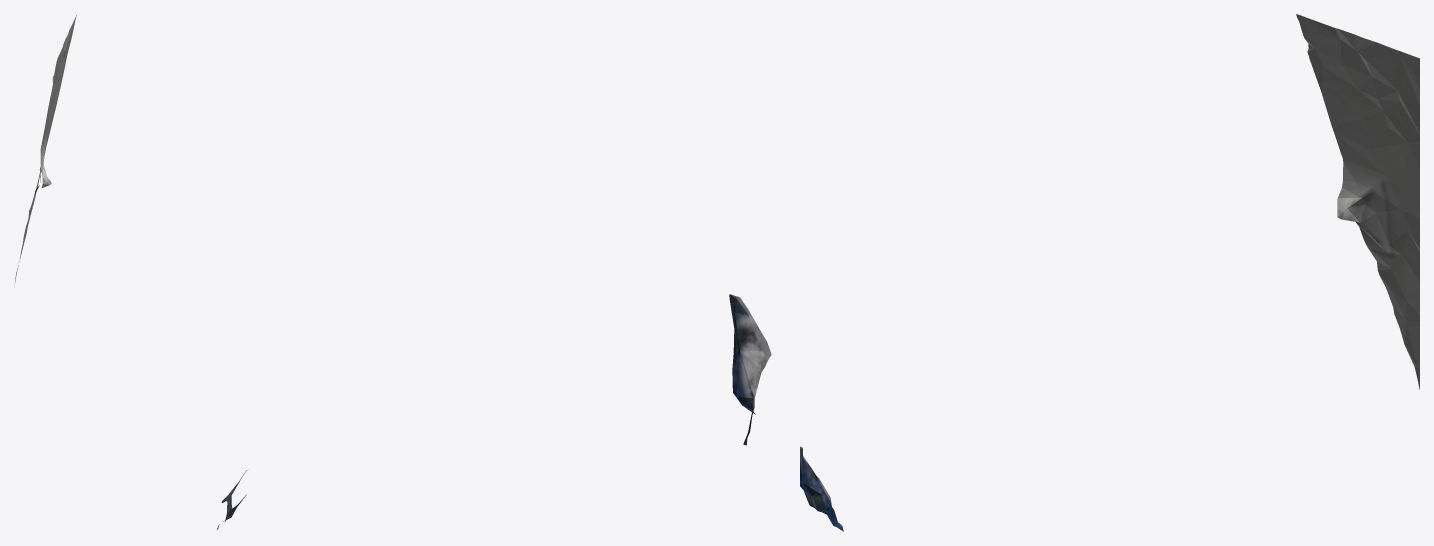
3 views of the same model, side by side, from view 1: azimuth 30°, elevation 25°; view 2: azimuth 150°, elevation 25°; view 3: azimuth 270°, elevation 25° (orthographic). The views are drawn at different scales.
Bounding box in the file's own units: 0.2837 × 1.54 × 1.67.
1 material, 1 textured.
